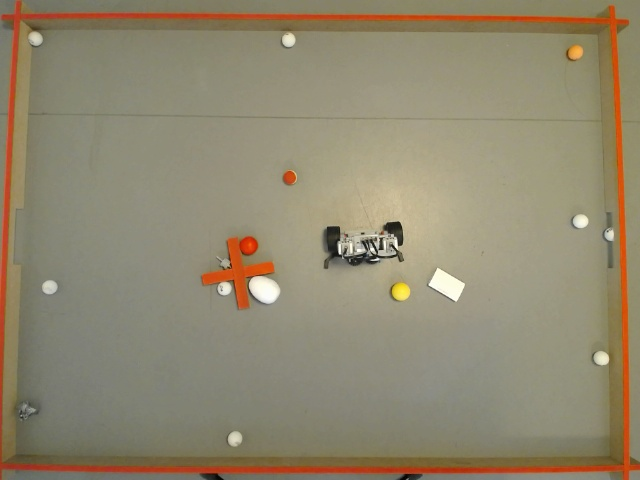big_goal: (13, 207, 22, 264), (606, 212, 614, 266)
cross: (198, 237, 272, 306)
egg: (248, 276, 278, 302)
orange: (566, 44, 582, 60)
robot: (322, 221, 404, 270)
wall: (16, 29, 608, 453)
white: (591, 351, 606, 365), (228, 431, 241, 444), (572, 215, 587, 225), (28, 32, 42, 42), (44, 282, 58, 291), (218, 281, 228, 293), (604, 225, 612, 239), (282, 35, 292, 45)
